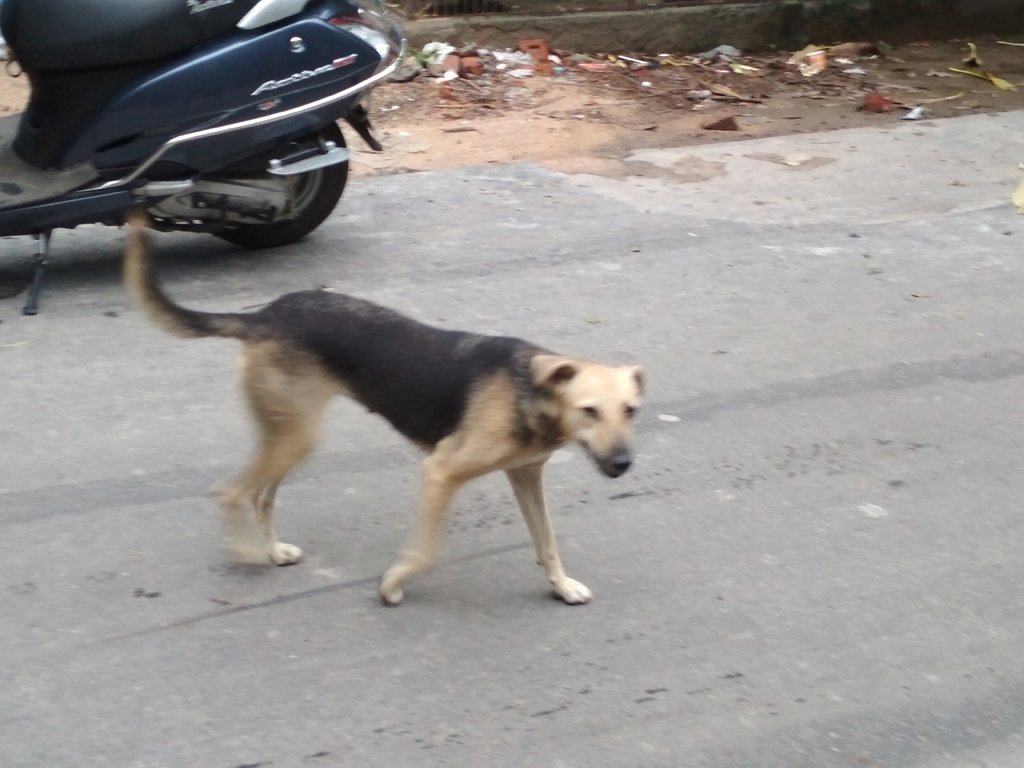dog: (124, 205, 647, 605)
